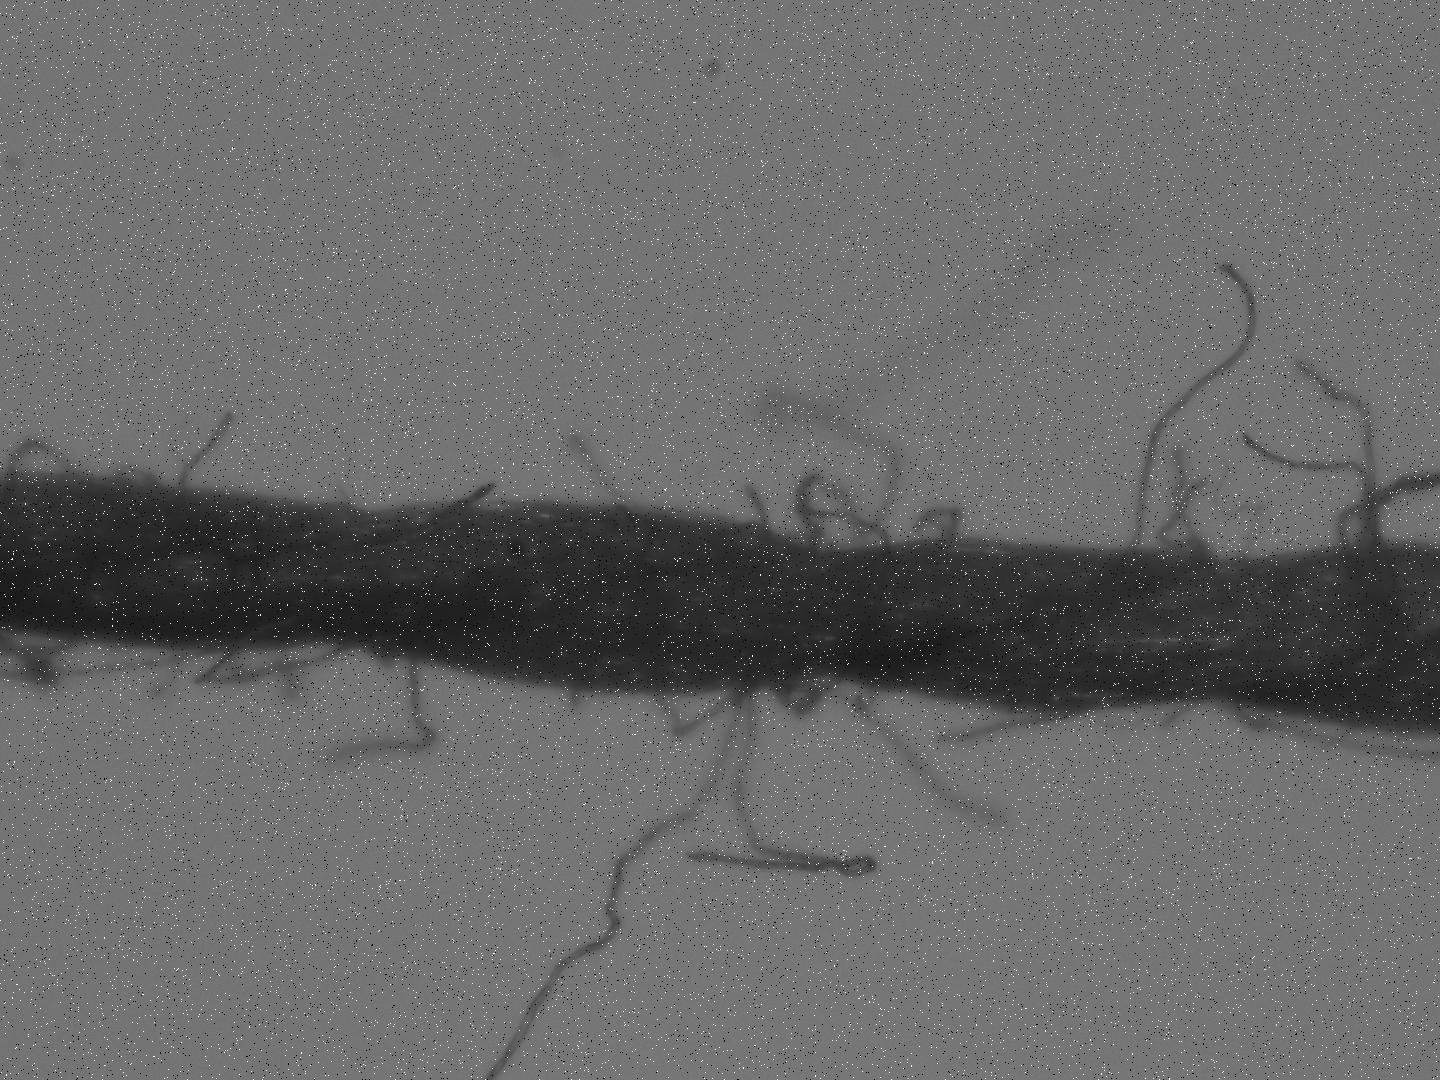loop_fiber: (1218, 701, 1440, 761), (657, 678, 847, 739), (3, 628, 220, 681), (791, 473, 893, 555), (198, 639, 361, 689), (1089, 700, 1202, 734), (8, 436, 86, 475), (907, 504, 971, 543), (110, 464, 166, 487)
protruding_fiber: (481, 681, 747, 1080), (811, 212, 1104, 406), (1125, 256, 1261, 555), (681, 686, 880, 881), (854, 684, 1011, 826), (1238, 431, 1387, 552), (1305, 358, 1382, 551), (807, 406, 906, 550), (315, 651, 438, 767), (1332, 465, 1440, 557), (568, 430, 646, 514), (1210, 453, 1263, 566), (938, 704, 1090, 744), (1158, 465, 1209, 566), (176, 405, 236, 489), (1175, 452, 1214, 565), (751, 404, 807, 437), (739, 483, 772, 538), (757, 393, 811, 412)
